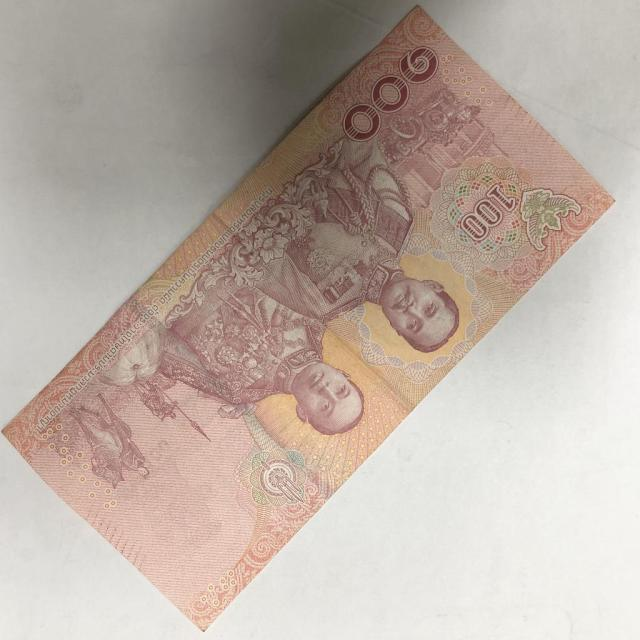THAI100: (2, 8, 613, 629)
